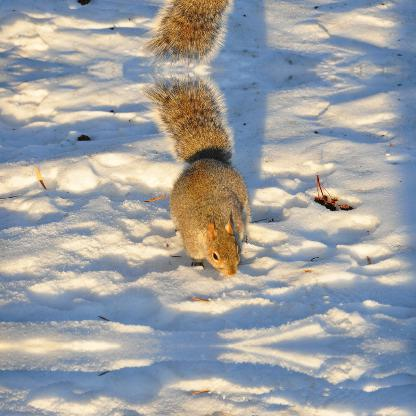Squirrel: (138, 69, 248, 273), (138, 0, 249, 70)
